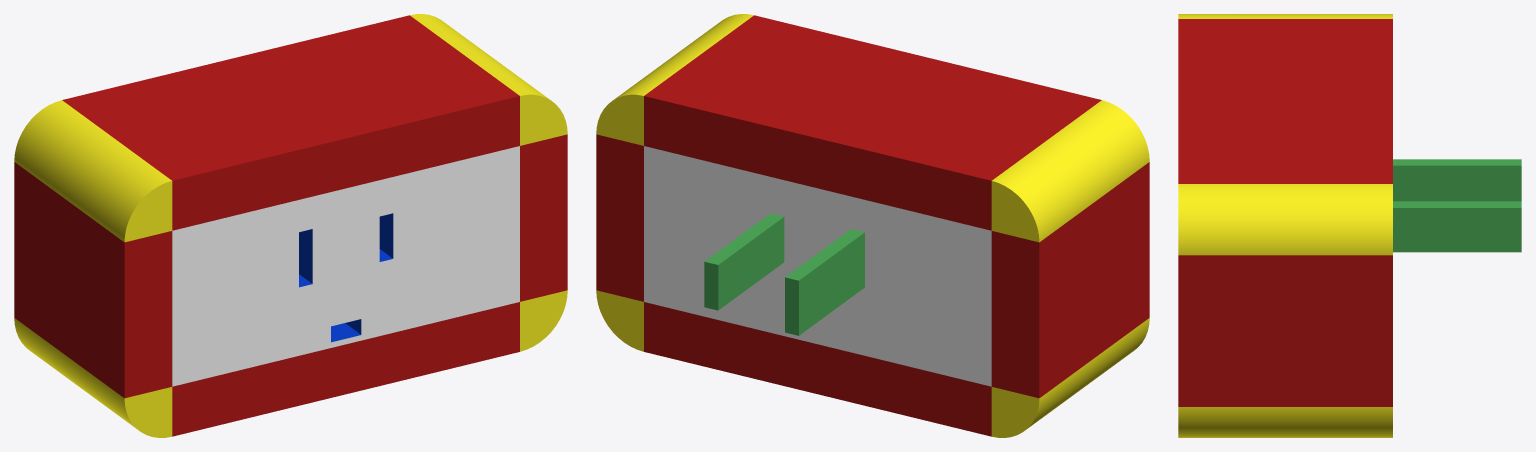
File: Case_Study_SmartSwitch_4.glb
3 renders of one model, left to right at view 1: azimuth 30°, elevation 25°; view 2: azimuth 150°, elevation 25°; view 3: azimuth 270°, elevation 25°, orthographic. The views are drawn at different scales.
Visible parts, largest first — view 1: Part 11, Part 8, Part 12, Part 9; view 2: Part 11, Part 8, Part 12, Part 10; view 3: Part 11, Part 12, Part 10.
Boxes of the visible parts, <box> form: Part 11: <box>14,15,567,436</box>; Part 8: <box>172,146,519,386</box>; Part 12: <box>14,14,567,437</box>; Part 9: <box>299,213,393,342</box>; Part 11: <box>596,15,1149,436</box>; Part 8: <box>644,146,991,386</box>; Part 12: <box>596,14,1149,437</box>; Part 10: <box>704,213,864,335</box>; Part 11: <box>1178,19,1392,406</box>; Part 12: <box>1178,14,1392,437</box>; Part 10: <box>1393,159,1521,252</box>.
Size of the model in its own units: 0.0737 by 0.0406 by 0.0508.
